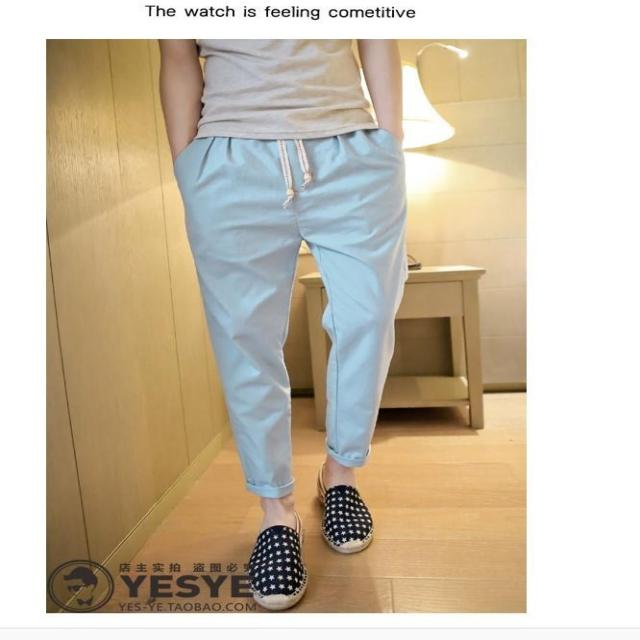trousers: (189, 103, 406, 493)
